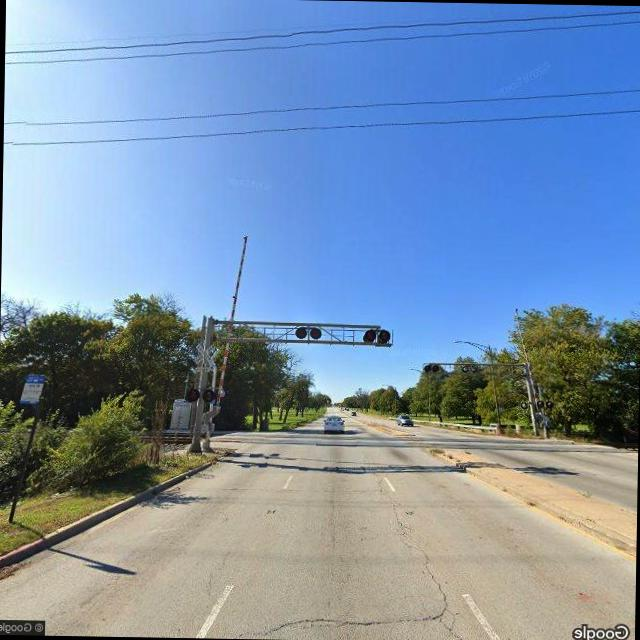crack: (373, 474, 492, 640), (226, 600, 447, 640)
